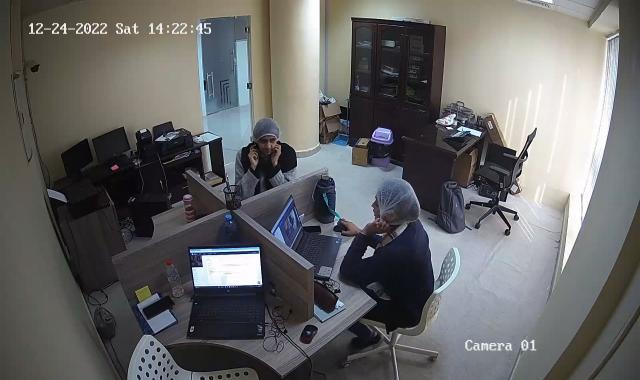hairnet: (378, 177, 421, 223), (252, 119, 278, 148)
